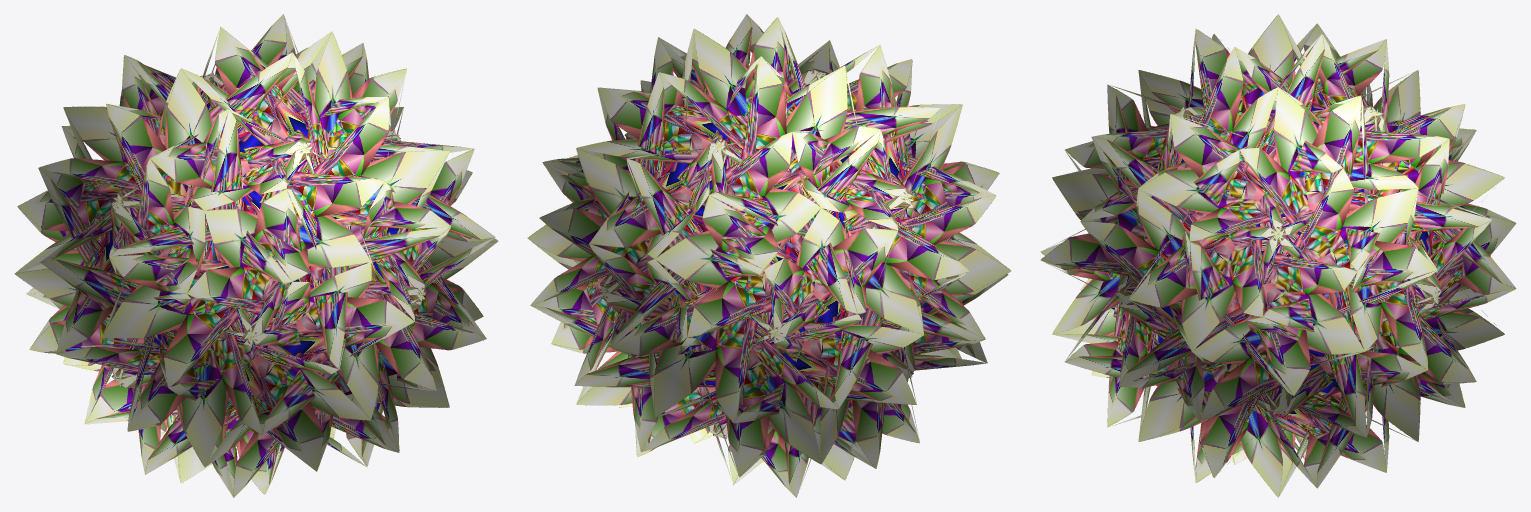
File: 12GreatInvertedPentagonalHexecontahedron.gltf
3 renders of one model, left to right at view 1: azimuth 30°, elevation 25°; view 2: azimuth 150°, elevation 25°; view 3: azimuth 270°, elevation 25°, orthographic.
Parts seen in each view (by area): view 1: 7GreatInvertedPentagonalHexecontahedron; view 2: 7GreatInvertedPentagonalHexecontahedron; view 3: 7GreatInvertedPentagonalHexecontahedron.
Boxes of the visible parts, left/top/right/bottom form: 7GreatInvertedPentagonalHexecontahedron: left=14, top=14, right=498, bottom=497; 7GreatInvertedPentagonalHexecontahedron: left=527, top=14, right=1011, bottom=497; 7GreatInvertedPentagonalHexecontahedron: left=1040, top=14, right=1516, bottom=497.
Bounding box in the file's own units: 1.13 × 1.13 × 1.13.
Materials: 1 (1 with a texture image).
